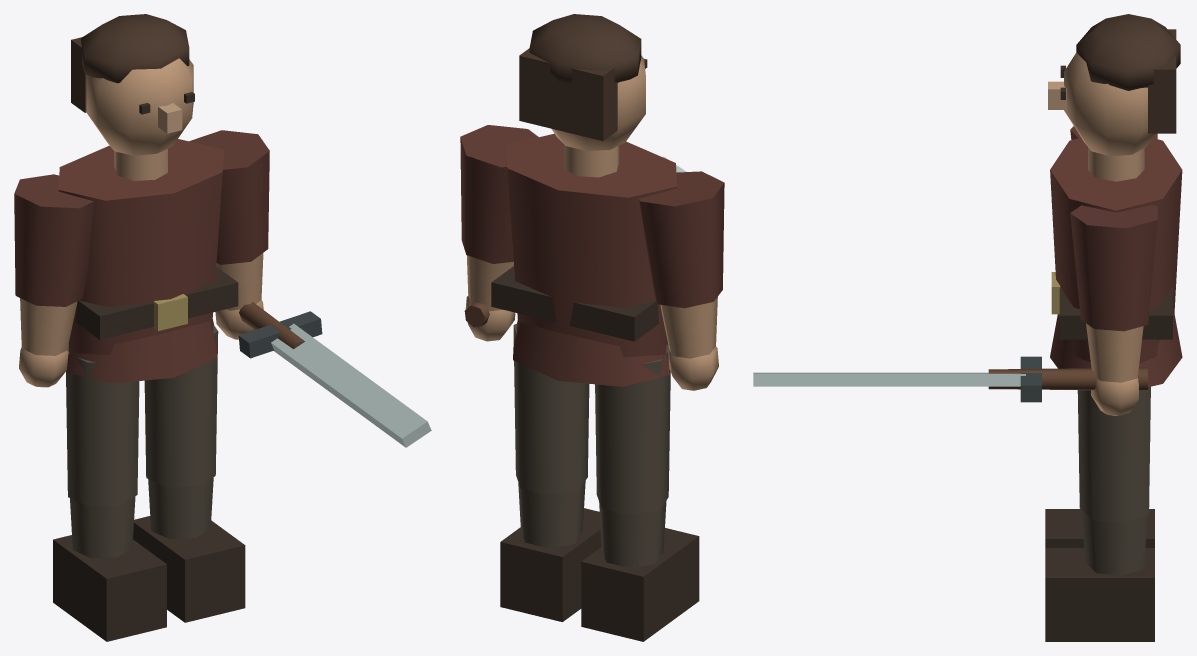
File: Character_Bandit_Reference.glb
3 renders of one model, left to right at view 1: azimuth 30°, elevation 25°; view 2: azimuth 150°, elevation 25°; view 3: azimuth 270°, elevation 25°, orthographic. The views are drawn at different scales.
Parts seen in each view (by area): view 1: _MeshInstance3D_4560, _MeshInstance3D_4545, _MeshInstance3D_4547, _MeshInstance3D_4548, _MeshInstance3D_4551, _MeshInstance3D_4553, _MeshInstance3D_4565, _MeshInstance3D_4554, _MeshInstance3D_4559, _MeshInstance3D_4566, _MeshInstance3D_4561, _MeshInstance3D_4562 (+12 smaller); view 2: _MeshInstance3D_4560, _MeshInstance3D_4545, _MeshInstance3D_4548, _MeshInstance3D_4547, _MeshInstance3D_4551, _MeshInstance3D_4553, _MeshInstance3D_4554, _MeshInstance3D_4567, _MeshInstance3D_4561, _MeshInstance3D_4566, _MeshInstance3D_4562, _MeshInstance3D_4546 (+8 smaller); view 3: _MeshInstance3D_4560, _MeshInstance3D_4554, _MeshInstance3D_4553, _MeshInstance3D_4551, _MeshInstance3D_4565, _MeshInstance3D_4566, _MeshInstance3D_4559, _MeshInstance3D_4552, _MeshInstance3D_4555, _MeshInstance3D_4561, _MeshInstance3D_4562, _MeshInstance3D_4567 (+5 smaller).
Part boxes in pixels (x1,y1,x2,y2): _MeshInstance3D_4560: [58, 139, 223, 354]; _MeshInstance3D_4545: [66, 344, 139, 506]; _MeshInstance3D_4547: [53, 535, 166, 641]; _MeshInstance3D_4548: [14, 174, 93, 306]; _MeshInstance3D_4551: [144, 325, 218, 487]; _MeshInstance3D_4553: [133, 516, 245, 622]; _MeshInstance3D_4565: [86, 58, 193, 155]; _MeshInstance3D_4554: [189, 130, 269, 264]; _MeshInstance3D_4559: [271, 323, 431, 447]; _MeshInstance3D_4566: [81, 14, 189, 83]; _MeshInstance3D_4561: [66, 319, 217, 383]; _MeshInstance3D_4562: [76, 267, 238, 339]; _MeshInstance3D_4560: [506, 133, 677, 357]; _MeshInstance3D_4545: [595, 345, 670, 514]; _MeshInstance3D_4548: [639, 171, 724, 308]; _MeshInstance3D_4547: [581, 528, 699, 641]; _MeshInstance3D_4551: [513, 323, 589, 495]; _MeshInstance3D_4553: [500, 508, 601, 621]; _MeshInstance3D_4554: [460, 125, 538, 263]; _MeshInstance3D_4567: [519, 48, 617, 140]; _MeshInstance3D_4561: [513, 320, 669, 386]; _MeshInstance3D_4566: [529, 14, 641, 83]; _MeshInstance3D_4562: [491, 266, 658, 341]; _MeshInstance3D_4546: [599, 500, 666, 567]; _MeshInstance3D_4560: [1050, 137, 1182, 363]; _MeshInstance3D_4554: [1070, 205, 1157, 331]; _MeshInstance3D_4553: [1045, 548, 1154, 641]; _MeshInstance3D_4551: [1077, 386, 1150, 523]; _MeshInstance3D_4565: [1064, 52, 1154, 156]; _MeshInstance3D_4566: [1076, 14, 1180, 90]; _MeshInstance3D_4559: [753, 372, 1025, 386]; _MeshInstance3D_4552: [1082, 510, 1146, 575]; _MeshInstance3D_4555: [1086, 323, 1143, 382]; _MeshInstance3D_4561: [1050, 314, 1182, 387]; _MeshInstance3D_4562: [1059, 286, 1172, 339]; _MeshInstance3D_4567: [1148, 29, 1176, 133].
Size of the model in its own units: 0.8511 by 1.82 by 1.21.
